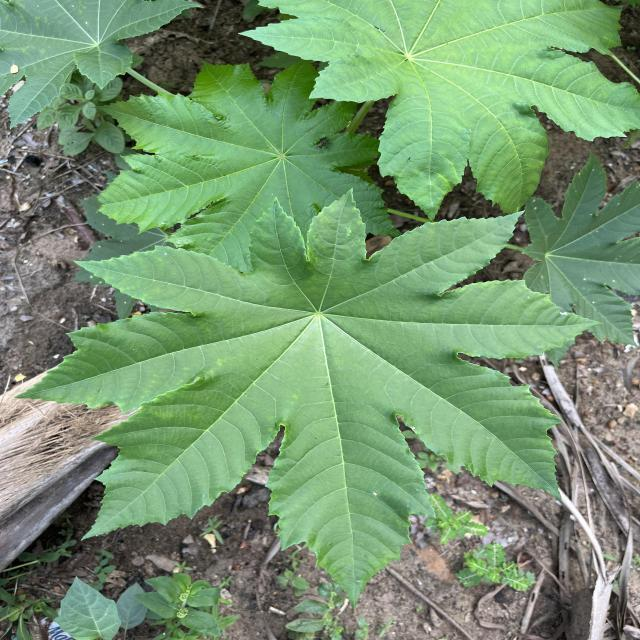Ricinus communis linn: (6, 182, 610, 616), (84, 51, 406, 277)
